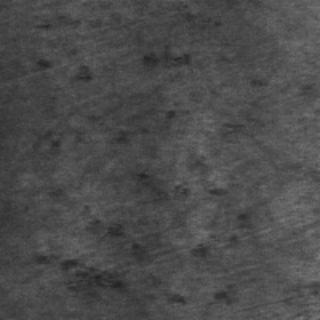rolled pit: (29, 198, 208, 306)
